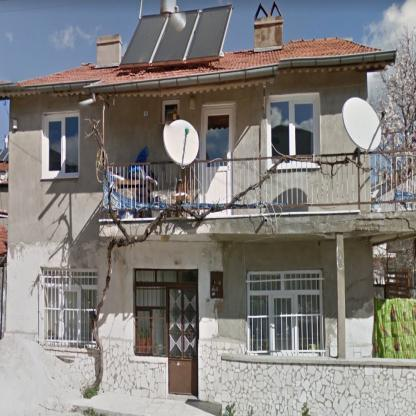door: (200, 102, 234, 217), (168, 286, 198, 396)
window: (246, 271, 326, 355), (133, 269, 198, 356), (41, 268, 97, 348), (267, 91, 320, 169), (41, 112, 77, 179), (162, 101, 178, 123)
